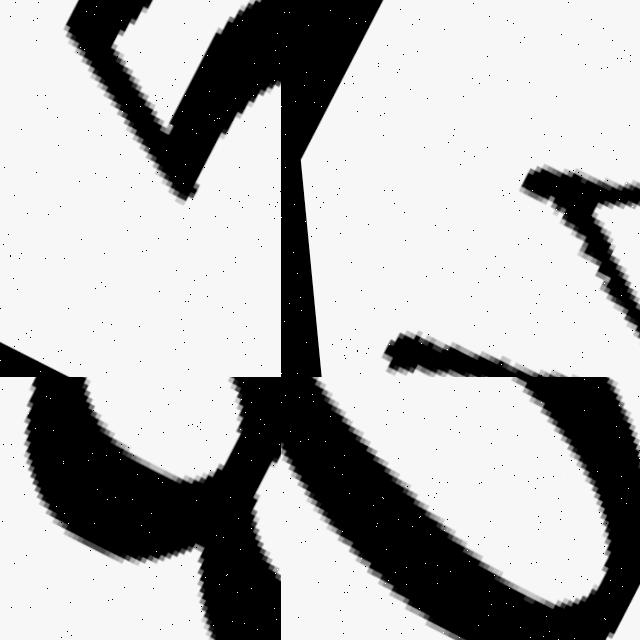0: (281, 377, 640, 640)
5: (0, 0, 281, 377)
8: (0, 377, 281, 640)
W: (327, 0, 640, 377)
